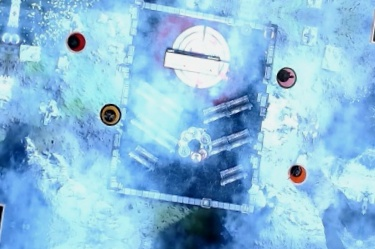orange: (285, 162, 311, 188)
pink_green: (271, 65, 297, 91)
red: (62, 29, 88, 55)
yellow_night_blue: (97, 101, 123, 127)
